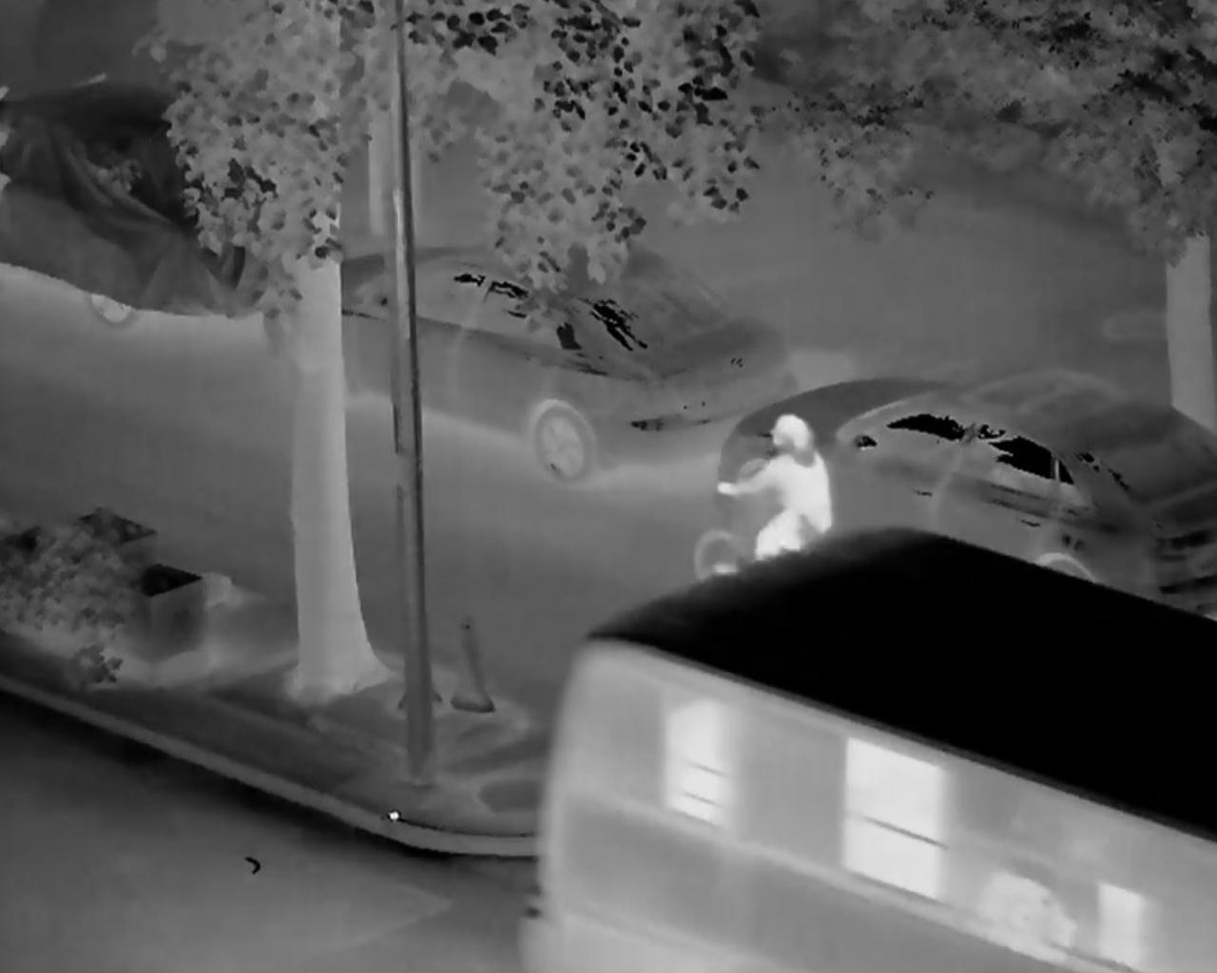person: (715, 403, 837, 582)
